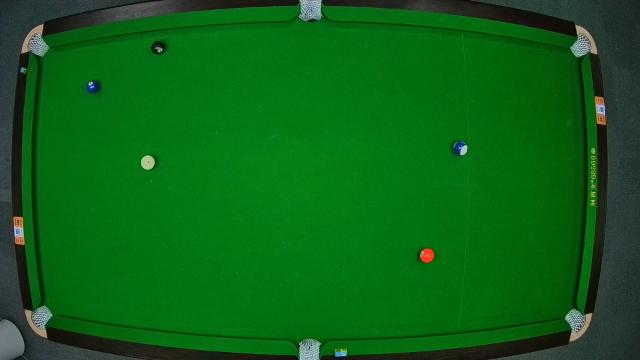bag1: (27, 34, 51, 56)
bag2: (298, 3, 324, 25)
bag3: (572, 36, 594, 58)
bag4: (32, 305, 54, 327)
bag5: (299, 342, 321, 360)
bag6: (566, 310, 590, 332)
ball0: (140, 152, 156, 172)
ball10: (452, 140, 470, 156)
ball2: (85, 78, 102, 94)
ball5: (419, 248, 436, 264)
ball8: (151, 38, 167, 57)
